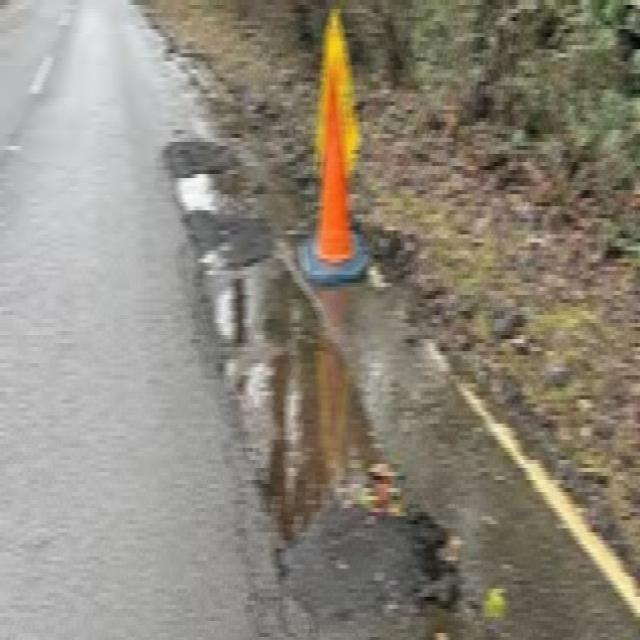Pothole: (205, 247, 466, 634), (162, 135, 260, 226)
